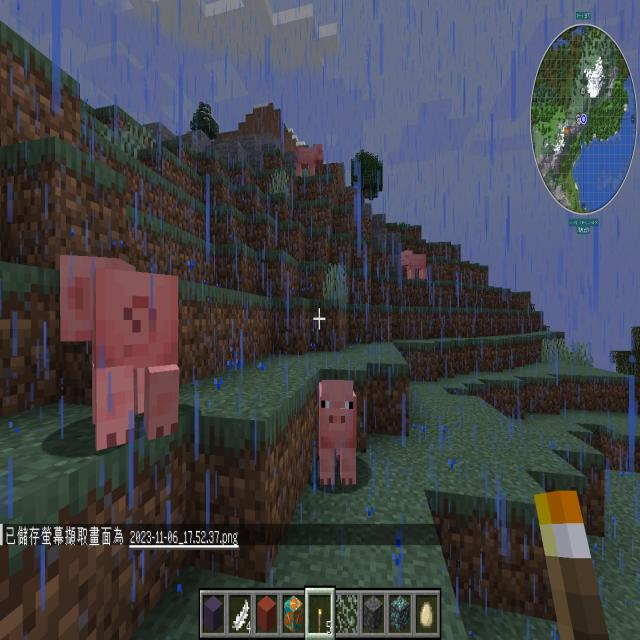pig: (53, 237, 187, 464), (313, 365, 365, 497), (398, 242, 438, 292), (291, 135, 329, 181)
